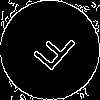F: (25, 25, 79, 80)
